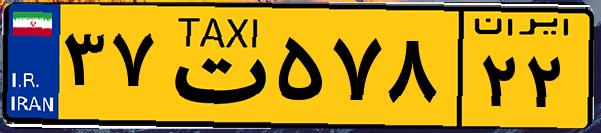2: (475, 38, 525, 113), (525, 38, 570, 115)
3: (57, 26, 110, 100)
5: (270, 28, 330, 110)
7: (330, 28, 385, 110), (110, 28, 158, 98)
8: (385, 28, 445, 110)
ت: (158, 12, 270, 120)
